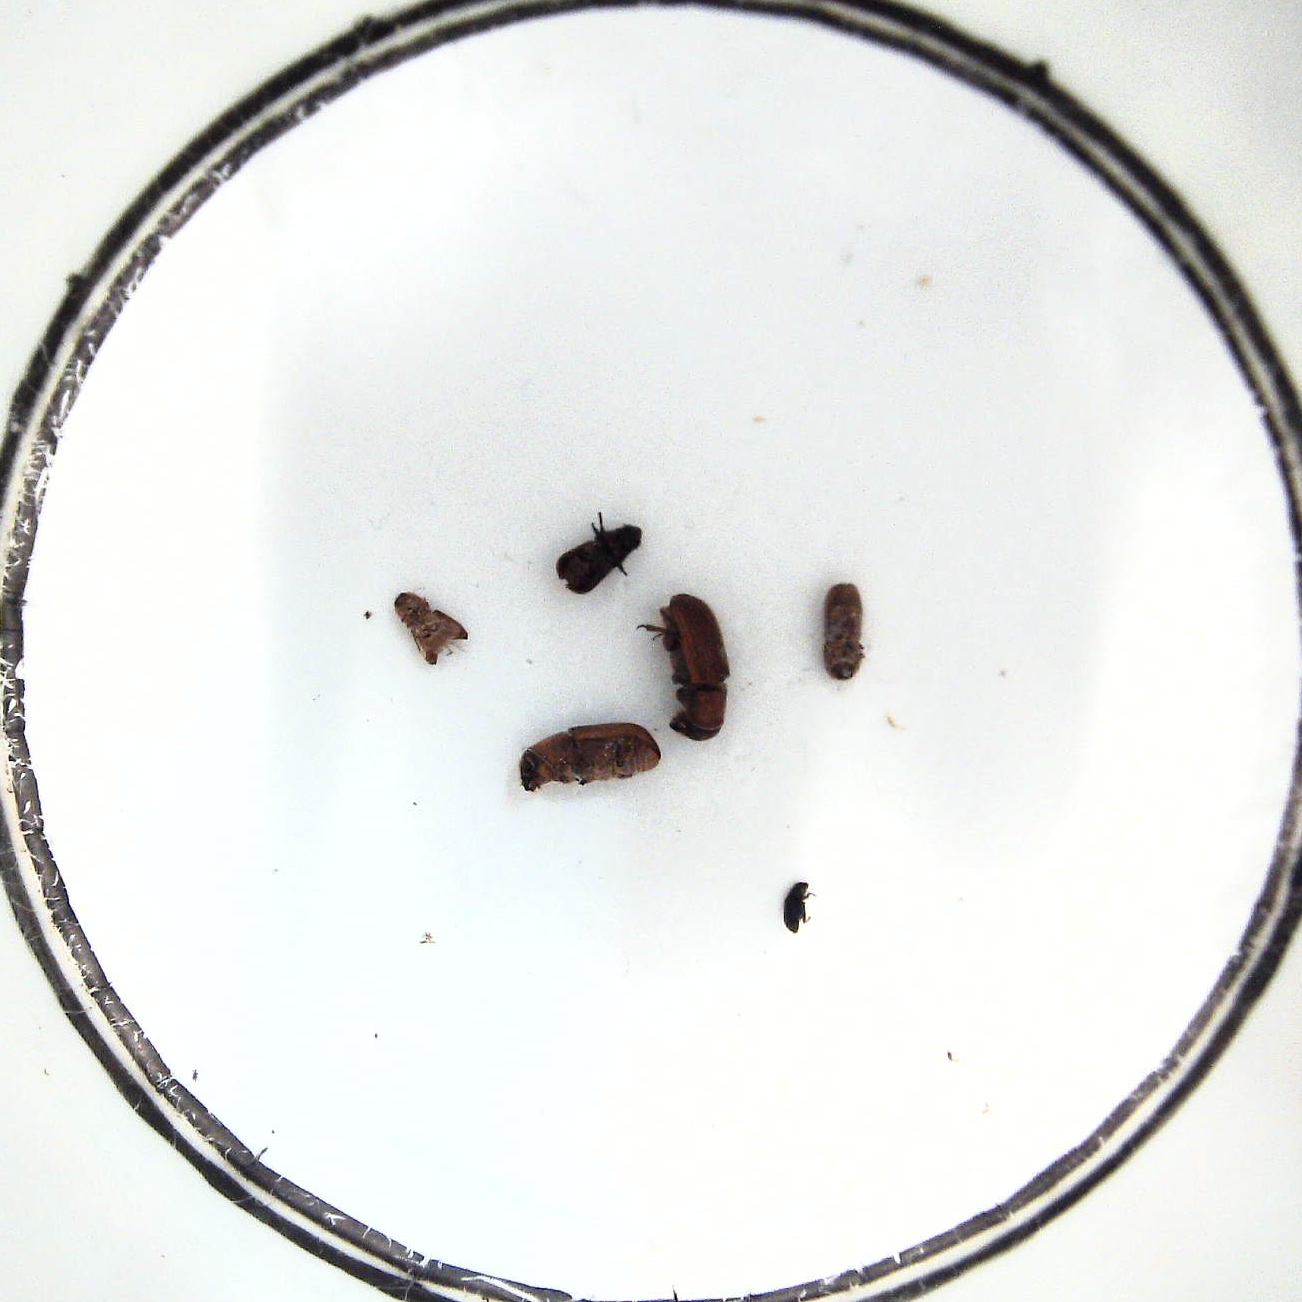Leconte: (641, 593, 732, 743), (516, 720, 661, 796)
Linnaeus: (819, 579, 866, 682)
acuminatus: (393, 591, 469, 666)
armandi: (554, 511, 643, 596)
coleoptera: (782, 881, 818, 934)
